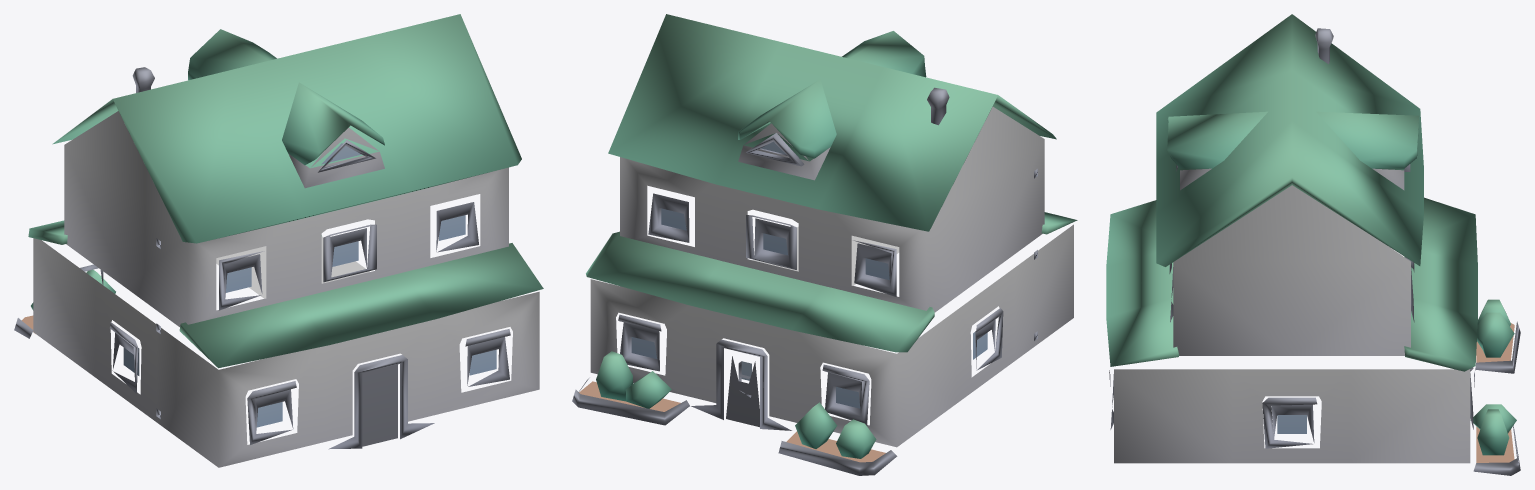
3 renders of one model, left to right at view 1: azimuth 30°, elevation 25°; view 2: azimuth 150°, elevation 25°; view 3: azimuth 270°, elevation 25°, orthographic. The views are drawn at different scales.
Bounding box in the file's own units: 10.4 × 9.25 × 11.17.
